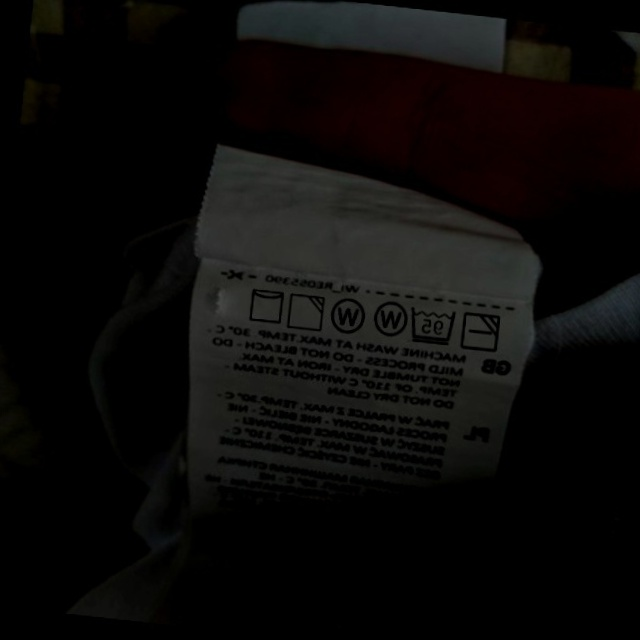95C: (406, 303, 458, 347)
dry_flat_in_shade: (459, 308, 503, 355)
line_dry: (244, 284, 287, 326)
shade_dry: (285, 290, 327, 334)
wet_clean: (327, 295, 368, 338), (369, 295, 409, 339)
